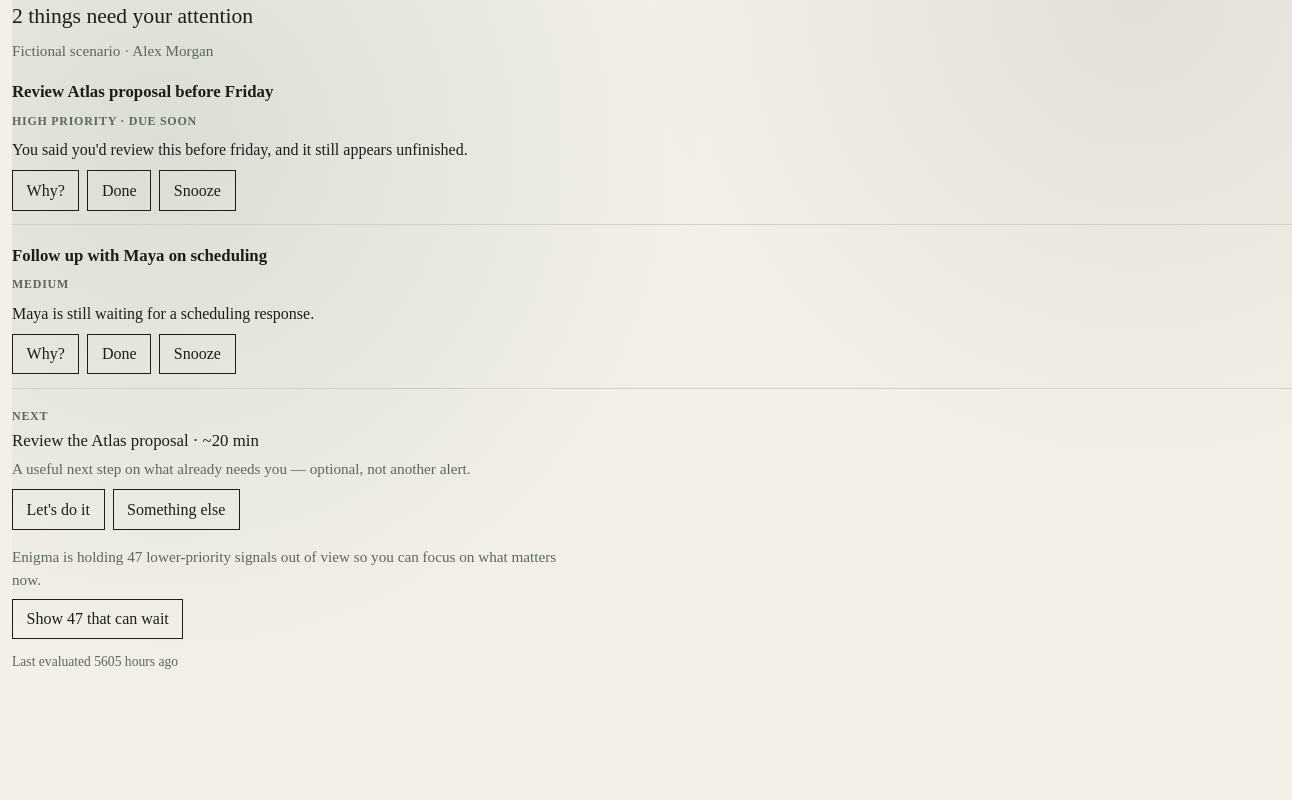
Test: Demo chrome stubs › AttentionDashboard shows compact product cards without evidence dumps
Expected: the text "Review Atlas proposal before Friday" is shown, x1=12 y1=82 x2=273 y2=101
Expected: the heading with test id "attention-headline" reads "2 things need your attention", x1=12 y1=4 x2=253 y2=28
What coordinates should you click on to do the following:
click the button with test id "attention-can-wait"
I would click on:
 (98, 619)
Its box is x1=12 y1=598 x2=183 y2=639.
(page scrolled)
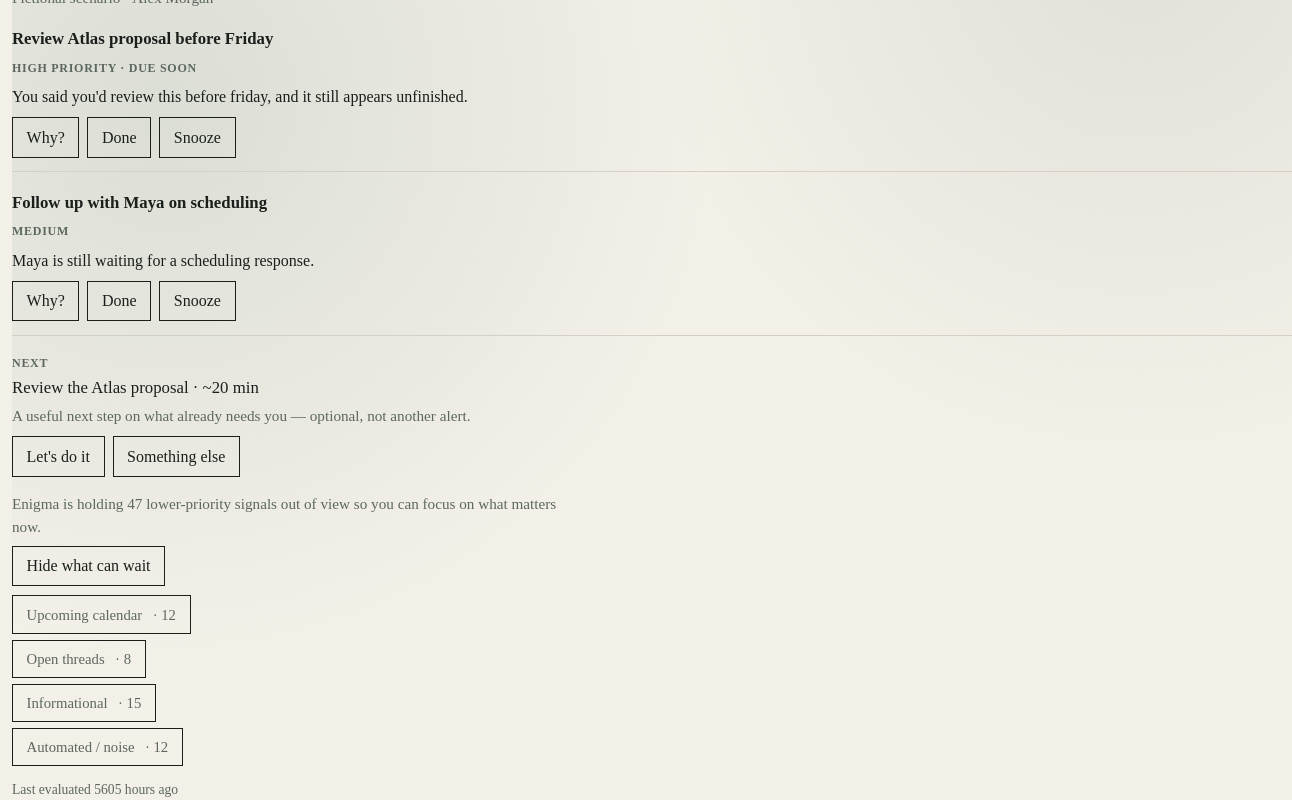
Result: the button with test id "attention-can-wait" reads "Hide what can wait" at x1=12 y1=546 x2=165 y2=586
Result: the list with test id "attention-can-wait-groups" shows "Upcoming calendar" at x1=12 y1=596 x2=191 y2=634
Result: the list with test id "attention-can-wait-groups" shows "Open threads" at x1=12 y1=640 x2=146 y2=678
